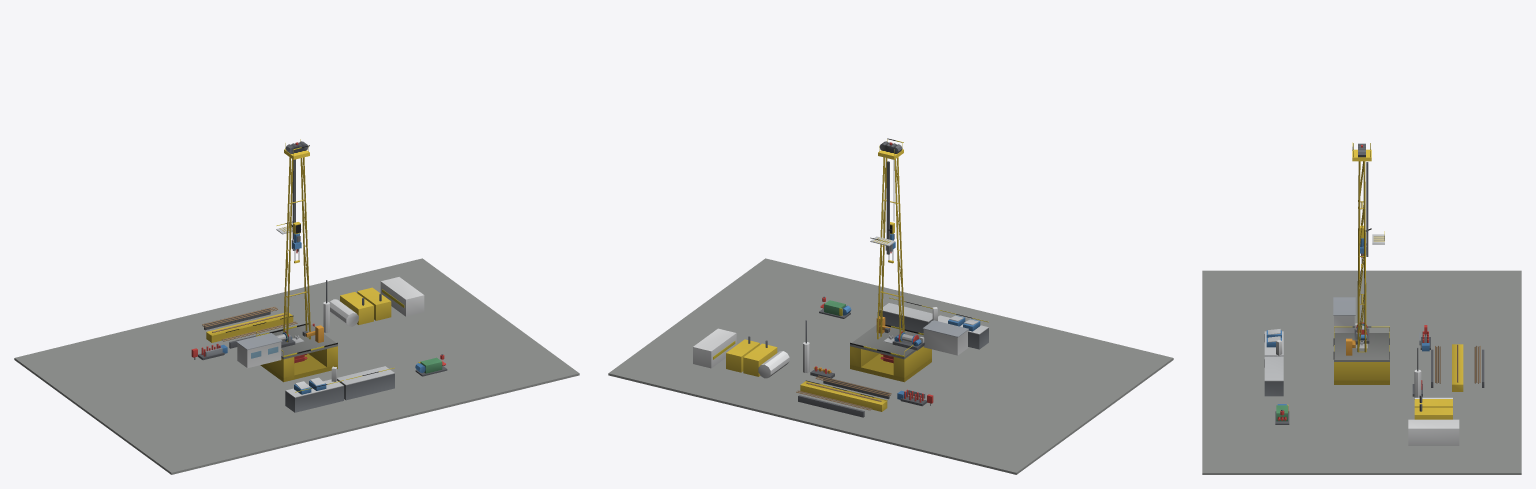
Rendered from single_low.glb.
The picture shows the model from 3 angles, left to right: view 1: azimuth 30°, elevation 25°; view 2: azimuth 150°, elevation 25°; view 3: azimuth 270°, elevation 25°; orthographic projection.
Visible parts, largest first — view 1: site__pad, mudtanks__tanks, mast__mast, mast__substructure, generators__gensets, mast__doghouse, generators__vfd, mast__floor, pipehandling__catwalk, pipehandling__racker; view 2: site__pad, mast__substructure, mast__mast, mudtanks__tanks, generators__gensets, pipehandling__racker, mast__doghouse, mast__floor, generators__vfd, pipehandling__catwalk; view 3: site__pad, mast__floor, generators__vfd, mast__mast, mast__substructure, mudtanks__tanks, generators__gensets, mast__doghouse, pipehandling__racker, pipehandling__catwalk.
Boxes of the visible parts, left/top/right/bottom form: site__pad: left=14, top=258, right=579, bottom=474; mudtanks__tanks: left=285, top=366, right=394, bottom=412; mast__mast: left=283, top=157, right=310, bottom=342; mast__substructure: left=260, top=346, right=337, bottom=382; generators__gensets: left=340, top=287, right=391, bottom=324; mast__doghouse: left=236, top=333, right=282, bottom=368; generators__vfd: left=380, top=277, right=424, bottom=316; mast__floor: left=256, top=323, right=337, bottom=359; pipehandling__catwalk: left=206, top=312, right=293, bottom=342; pipehandling__racker: left=202, top=306, right=297, bottom=348; site__pad: left=608, top=258, right=1173, bottom=474; mast__substructure: left=850, top=346, right=931, bottom=382; mast__mast: left=877, top=157, right=904, bottom=342; mudtanks__tanks: left=879, top=297, right=988, bottom=349; generators__gensets: left=726, top=336, right=777, bottom=376; pipehandling__racker: left=796, top=375, right=891, bottom=417; mast__doghouse: left=922, top=320, right=968, bottom=355; mast__floor: left=850, top=324, right=923, bottom=359; generators__vfd: left=693, top=328, right=736, bottom=368; pipehandling__catwalk: left=800, top=380, right=887, bottom=411; site__pad: left=1202, top=270, right=1521, bottom=474; mast__floor: left=1333, top=326, right=1389, bottom=361; generators__vfd: left=1408, top=419, right=1459, bottom=445; mast__mast: left=1357, top=161, right=1366, bottom=352; mast__substructure: left=1334, top=362, right=1389, bottom=384; mudtanks__tanks: left=1264, top=331, right=1283, bottom=396; generators__gensets: left=1414, top=395, right=1452, bottom=419; mast__doghouse: left=1333, top=297, right=1355, bottom=332; pipehandling__racker: left=1431, top=346, right=1484, bottom=387; pipehandling__catwalk: left=1452, top=344, right=1463, bottom=391.
Size of the model in its own units: 60 by 50.47 by 40.
